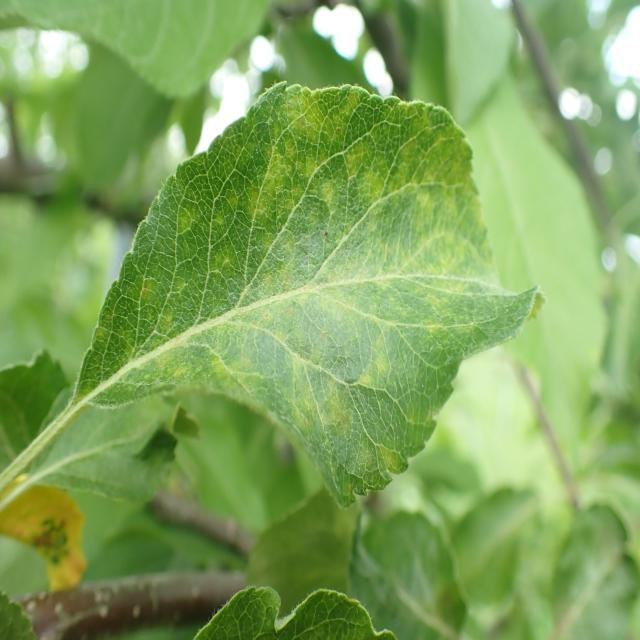scab: (82, 110, 540, 506)
